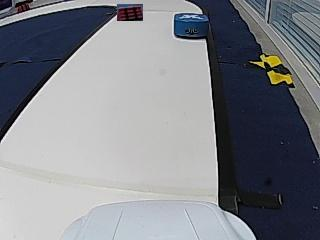prop: (174, 14, 209, 39)
